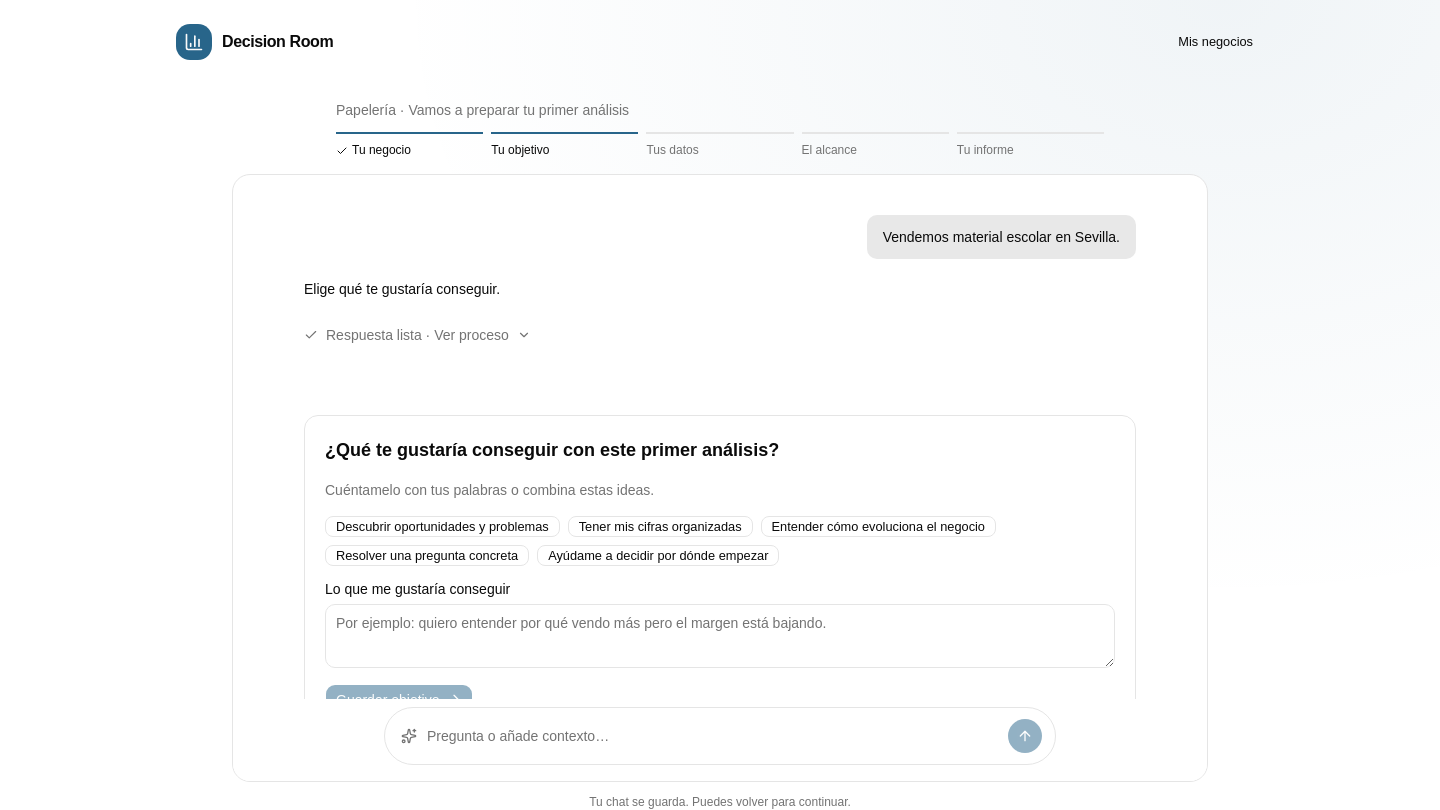
Test case: resumes the conversation and combines goal options with free text
Expected: the heading "¿Qué te gustaría conseguir con este primer análisis?" is shown, x1=325 y1=440 x2=779 y2=460
Expected: the text "Vendemos material escolar en Sevilla." is shown, x1=867 y1=215 x2=1136 y2=259
Click the button "Descubrir oportunidades y problemas": x=442, y=527 x1=325 y1=516 x2=560 y2=537
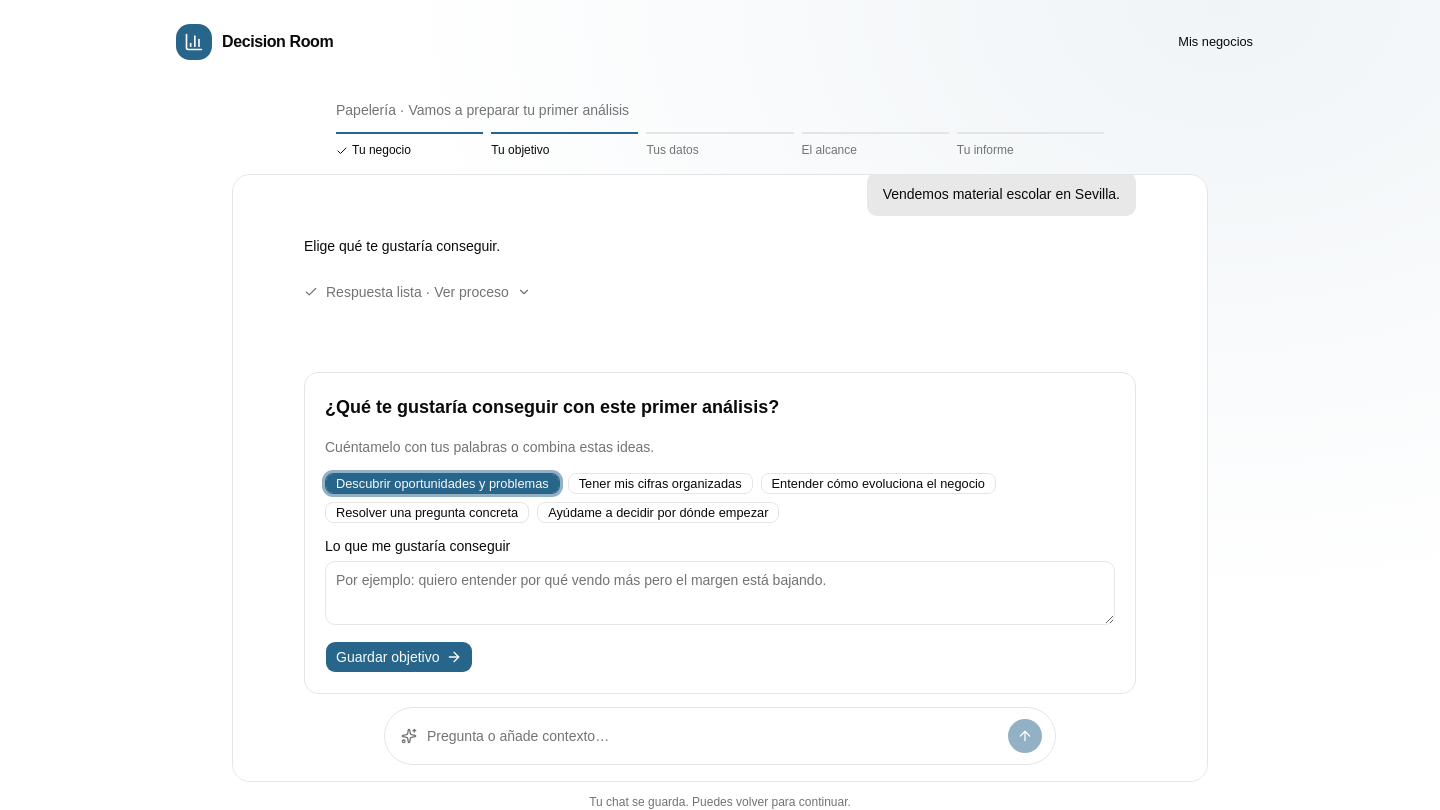
Click the button "Tener mis cifras organizadas": x=660, y=484 x1=568 y1=473 x2=753 y2=494
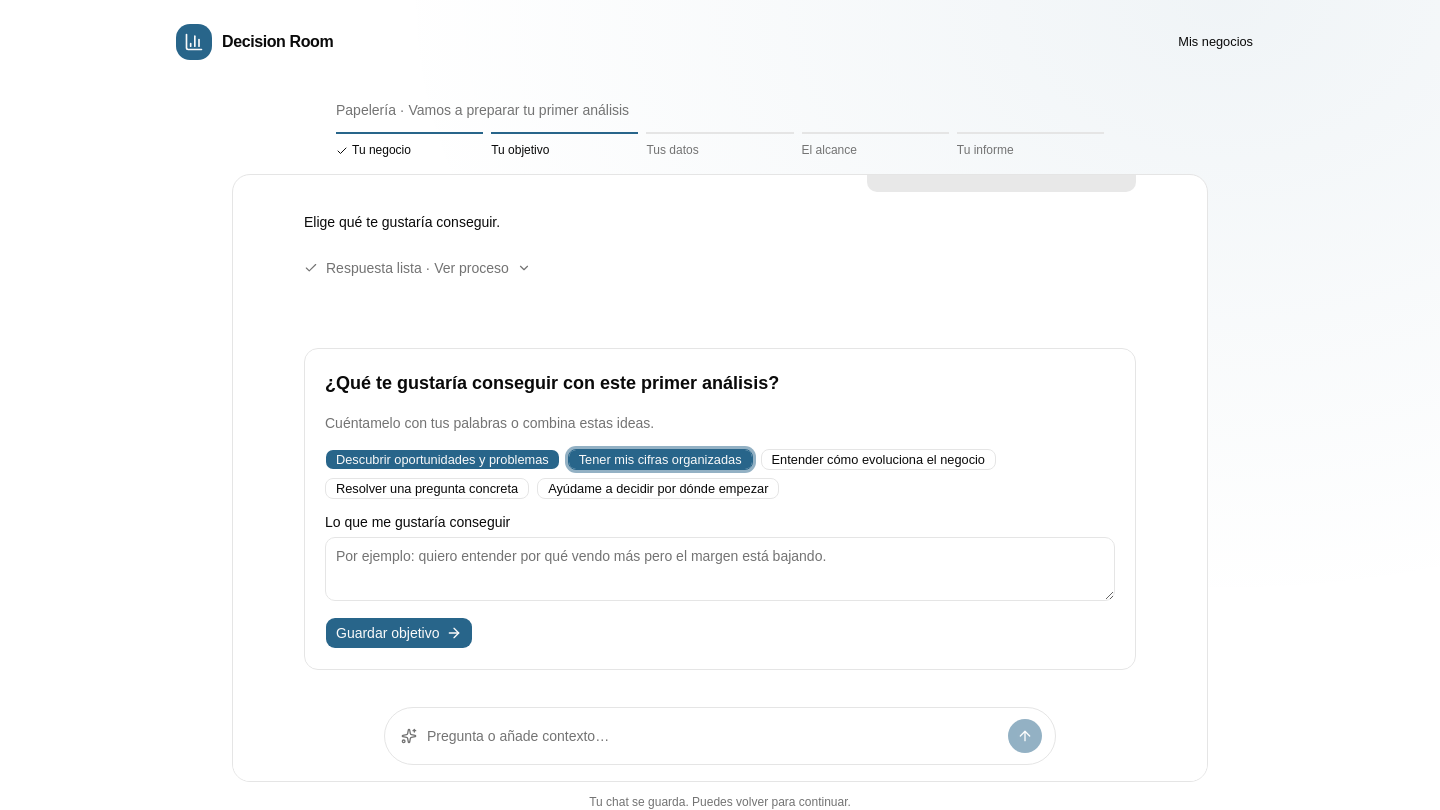
In the text box labelled "Lo que me gustaría conseguir": x=720, y=569 x1=325 y1=537 x2=1115 y2=601, type "Priorizar productos con poco margen"
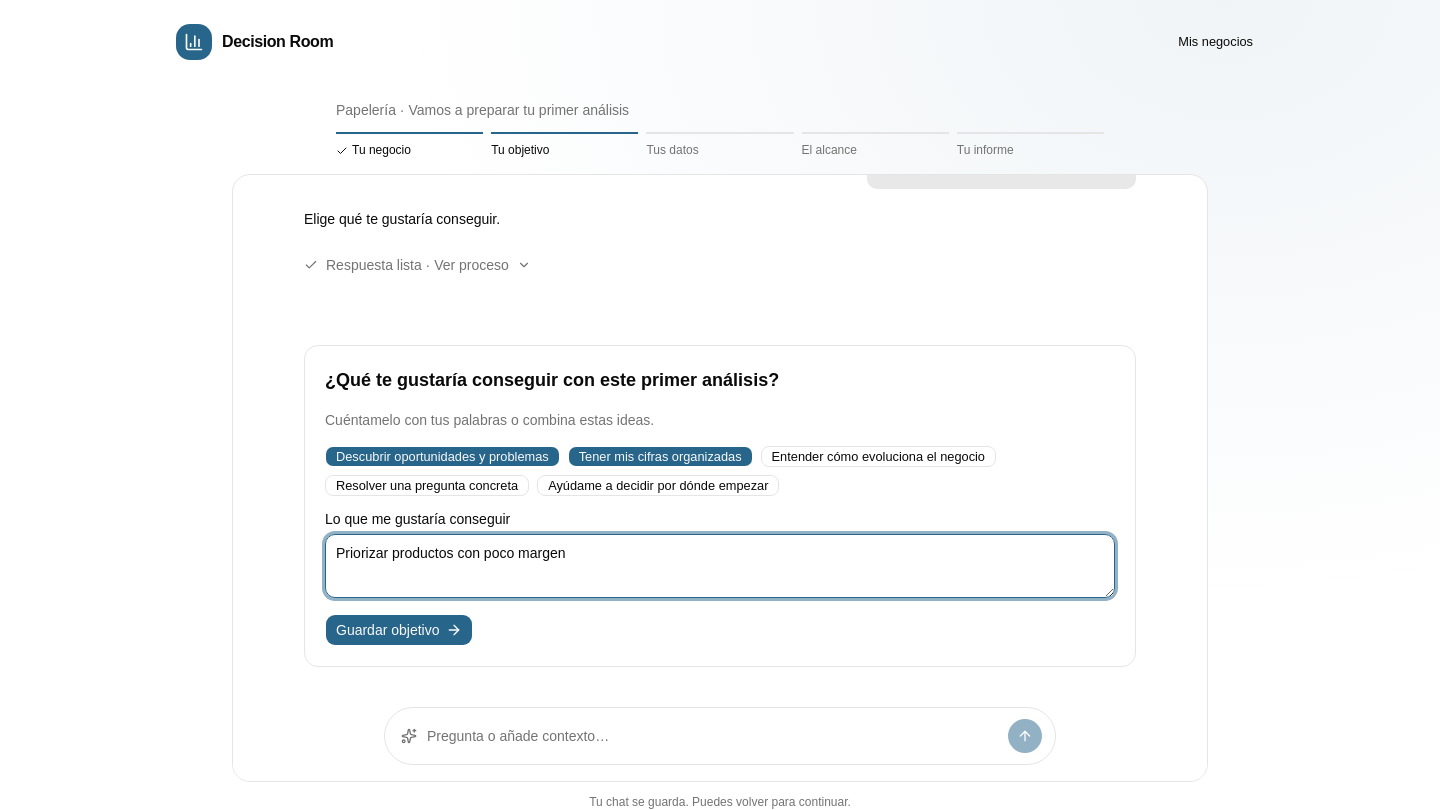
Click the button "Guardar objetivo": x=399, y=630 x1=325 y1=614 x2=472 y2=646
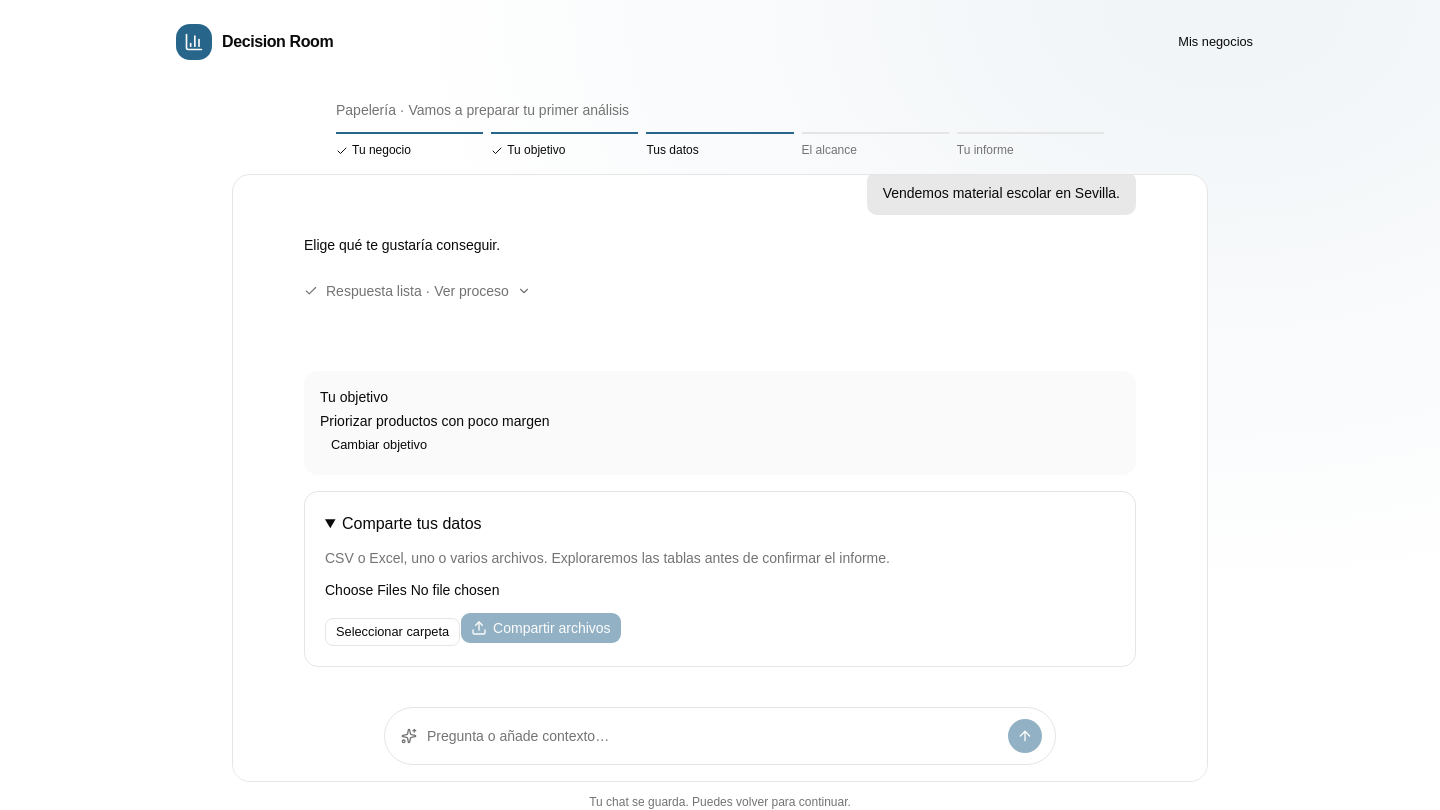
Now the file field named "Archivos del negocio" is shown, box x1=325 y1=580 x2=1115 y2=600
